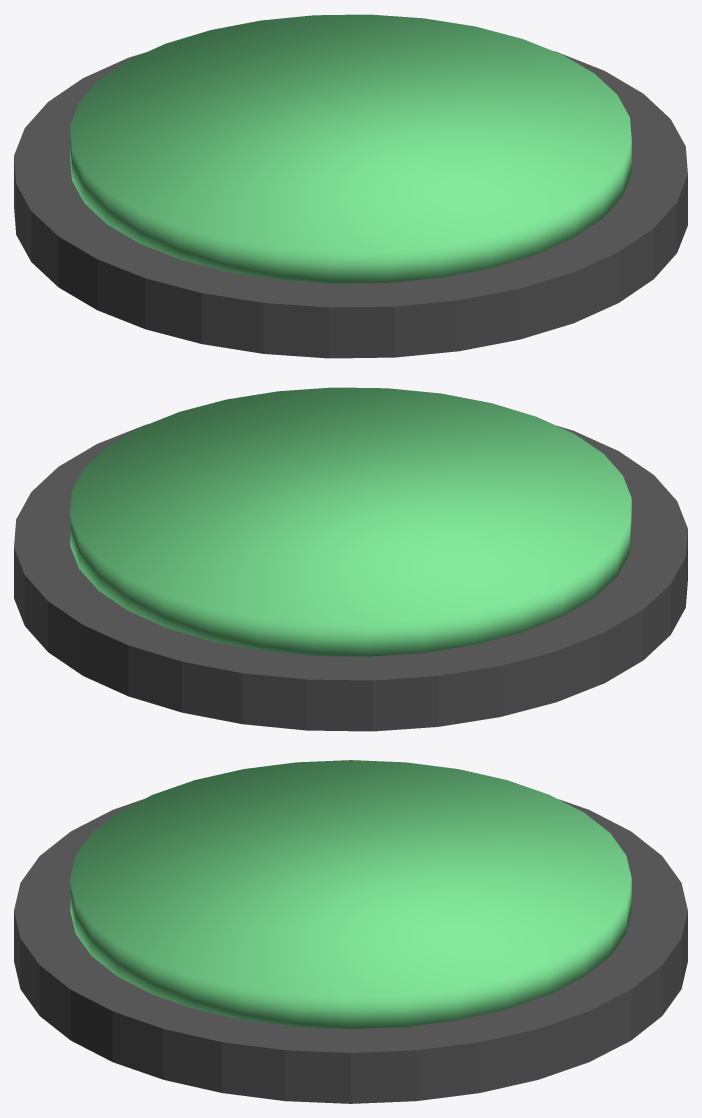
File: vote_button.glb
3 renders of one model, top to bottom at view 1: azimuth 30°, elevation 25°; view 2: azimuth 150°, elevation 25°; view 3: azimuth 270°, elevation 25°, orthographic.
Visible parts, largest first — view 1: VoteButton, ButtonBase; view 2: VoteButton, ButtonBase; view 3: VoteButton, ButtonBase.
Boxes of the visible parts, <box> form: VoteButton: <box>70,14,631,283</box>; ButtonBase: <box>14,51,687,358</box>; VoteButton: <box>70,387,631,656</box>; ButtonBase: <box>14,424,687,731</box>; VoteButton: <box>70,760,631,1029</box>; ButtonBase: <box>14,799,687,1103</box>.
Size of the model in its own units: 2.4 by 0.325 by 2.4.
